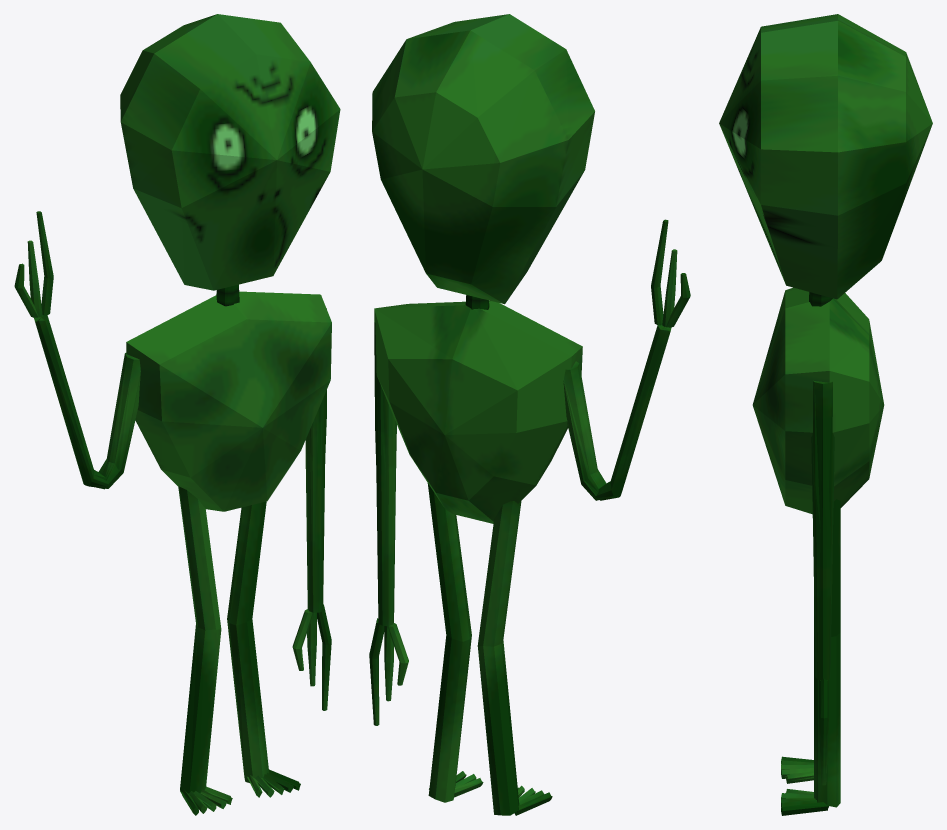
File: UFO.glb
3 views of the same model, side by side, from view 1: azimuth 30°, elevation 25°; view 2: azimuth 150°, elevation 25°; view 3: azimuth 270°, elevation 25° (orthographic).
Visible parts, largest first — view 1: UFO; view 2: UFO; view 3: UFO.
Part boxes in pixels (box(x1,y1,x2,y2)): UFO: box(14, 14, 340, 815); UFO: box(369, 14, 690, 815); UFO: box(719, 14, 932, 815).
Size of the model in its own units: 200 by 465 by 117.
1 material, 1 textured.
